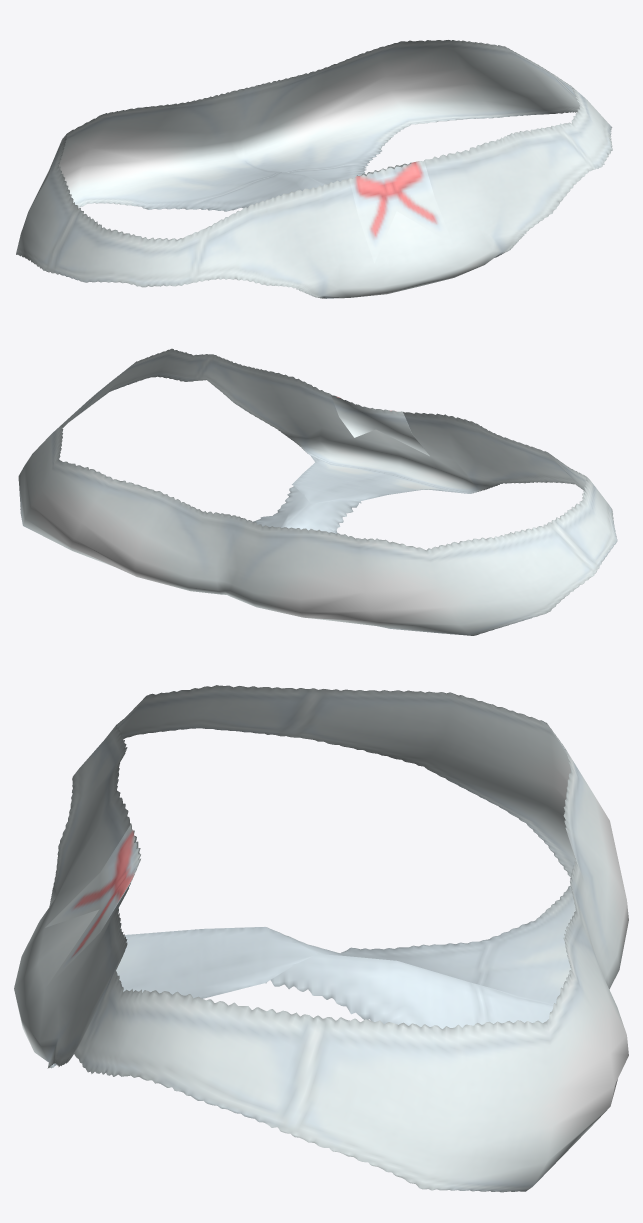
The model's file is pants.glb.
The picture shows the model from 3 angles, top to bottom: view 1: azimuth 30°, elevation 25°; view 2: azimuth 150°, elevation 25°; view 3: azimuth 270°, elevation 25°; orthographic projection. The views are drawn at different scales.
Visible parts, largest first — view 1: Body_Shorts; view 2: Body_Shorts; view 3: Body_Shorts.
Part boxes in pixels (x1=…): Body_Shorts: x1=16, y1=40, x2=612, y2=298; Body_Shorts: x1=18, y1=348, x2=617, y2=635; Body_Shorts: x1=14, y1=685, x2=628, y2=1192.
Size of the model in its own units: 0.2326 by 0.055 by 0.1324.
Materials: 1 (1 with a texture image).
